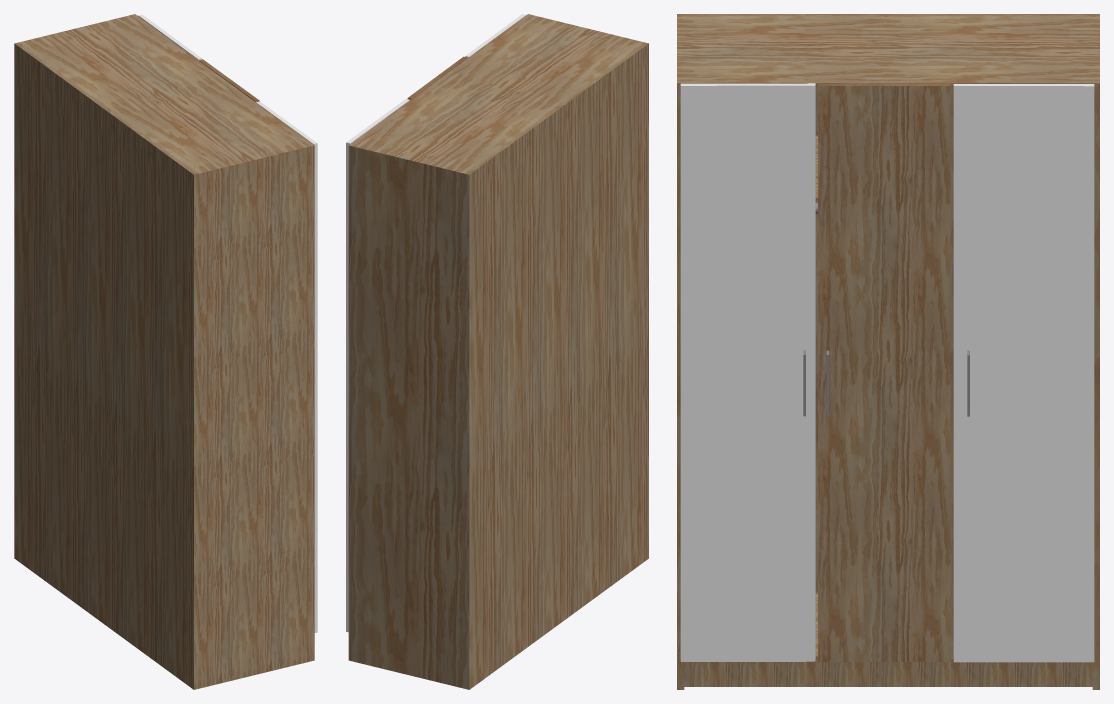
File: wardrobe.glb
The picture shows the model from 3 angles, left to right: view 1: azimuth 30°, elevation 25°; view 2: azimuth 150°, elevation 25°; view 3: azimuth 270°, elevation 25°; orthographic projection. The views are drawn at different scales.
Visible parts, largest first — view 1: Cube, Cube.001; view 2: Cube, Cube.003; view 3: Cube.003, Cube.001, Cube.002, Cube, Cube.007.
Boxes of the visible parts, box(x1,y1,x2,y2) form: Cube: box(14, 14, 314, 689); Cube.001: box(256, 101, 317, 632); Cube: box(348, 14, 648, 689); Cube.003: box(346, 99, 409, 632); Cube.003: box(953, 84, 1094, 662); Cube.001: box(680, 83, 815, 661); Cube.002: box(818, 83, 950, 662); Cube: box(677, 14, 1099, 689); Cube.007: box(950, 89, 953, 659).
Bounding box in the file's own units: 0.5165 × 1.9 × 1.2.
16 materials, 13 textured.
